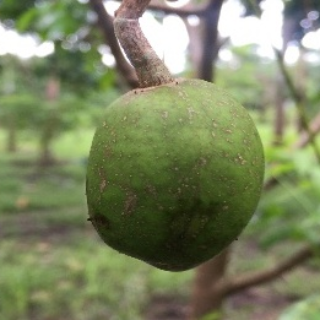coc: (86, 76, 264, 272)
